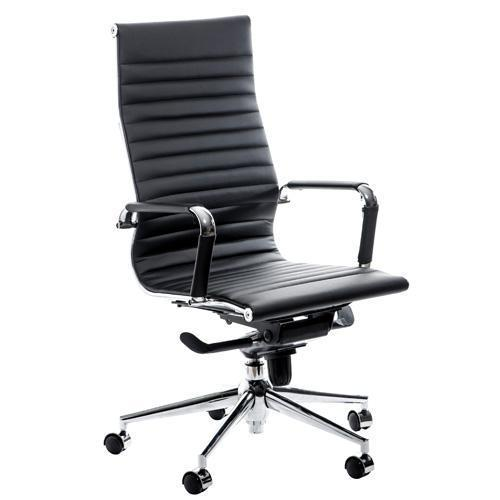chairs: (93, 11, 410, 495)
